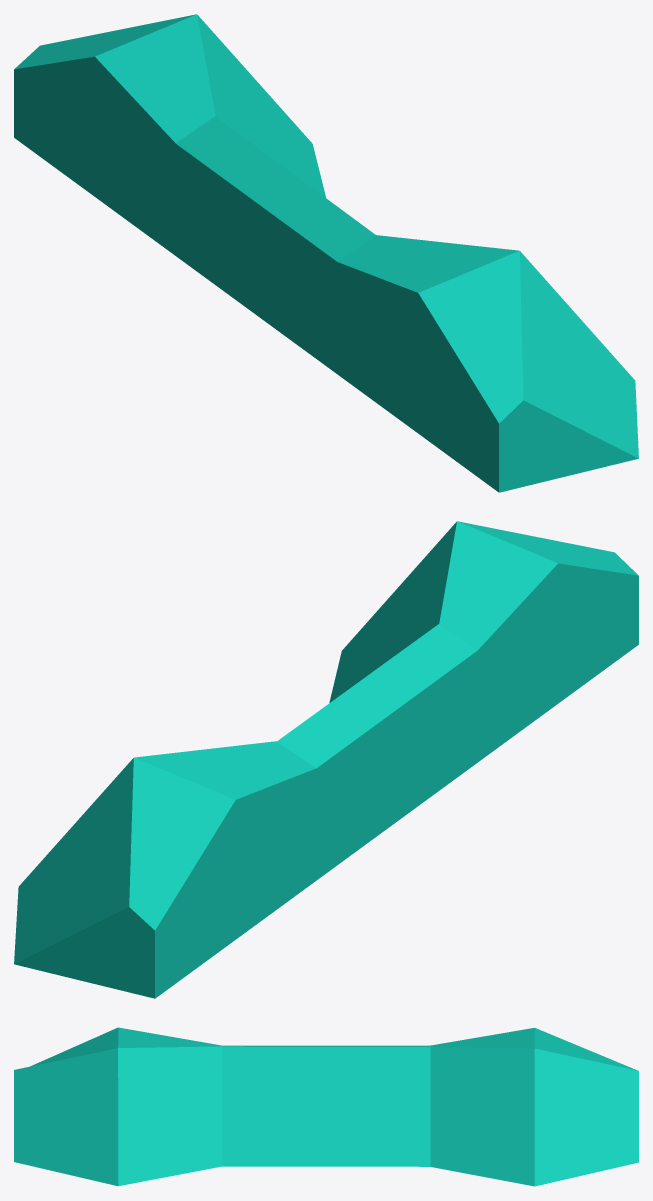
Rendered from Breaker.fbx.
The picture shows the model from 3 angles, top to bottom: view 1: azimuth 30°, elevation 25°; view 2: azimuth 150°, elevation 25°; view 3: azimuth 270°, elevation 25°; orthographic projection. The views are drawn at different scales.
Visible parts, largest first — view 1: Cube; view 2: Cube; view 3: Cube.
Boxes of the visible parts, x1=… form: Cube: x1=14, y1=14, x2=638, y2=492; Cube: x1=14, y1=521, x2=638, y2=998; Cube: x1=14, y1=1027, x2=638, y2=1186.
Bounding box in the file's own units: 156 × 108 × 600.
